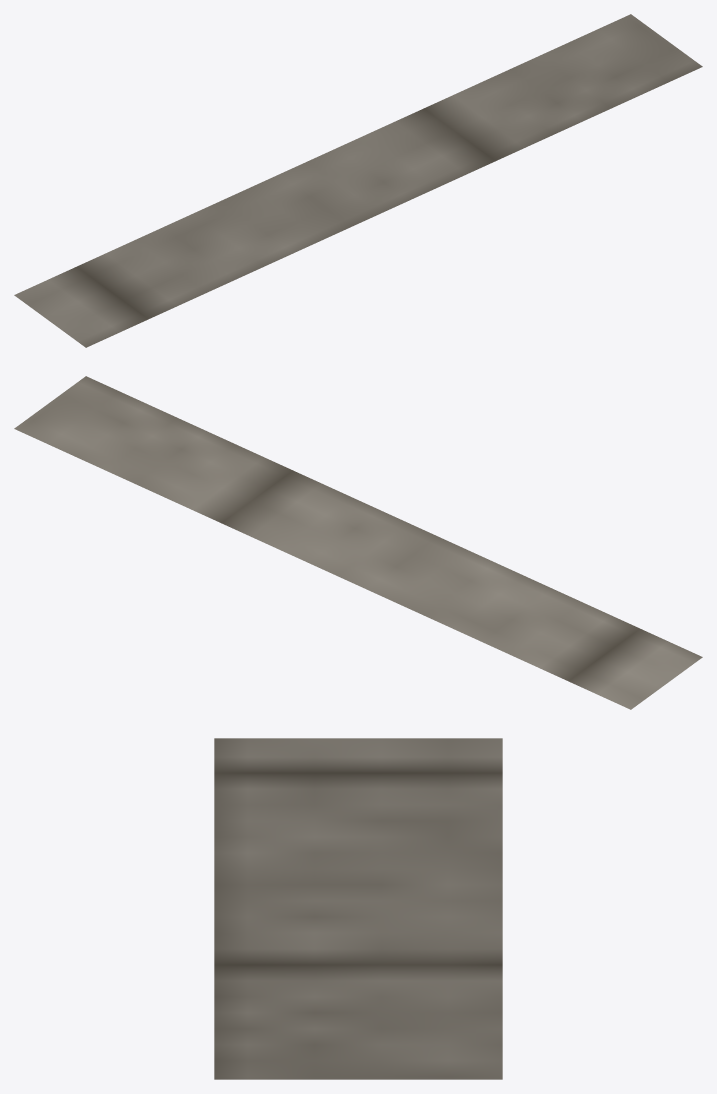
Rendered from tunel_silnicni_vrch_1.glb.
The picture shows the model from 3 angles, top to bottom: view 1: azimuth 30°, elevation 25°; view 2: azimuth 150°, elevation 25°; view 3: azimuth 270°, elevation 25°; orthographic projection. The views are drawn at different scales.
Parts seen in each view (by area): view 1: tunel_silnicni_vrch_1; view 2: tunel_silnicni_vrch_1; view 3: tunel_silnicni_vrch_1.
Part boxes in pixels (x1,y1,x2,y2): tunel_silnicni_vrch_1: [14, 14, 702, 347]; tunel_silnicni_vrch_1: [14, 376, 702, 709]; tunel_silnicni_vrch_1: [214, 738, 502, 1079].
Size of the model in its own units: 4.95 by 1 by 1.
Materials: 1 (1 with a texture image).
